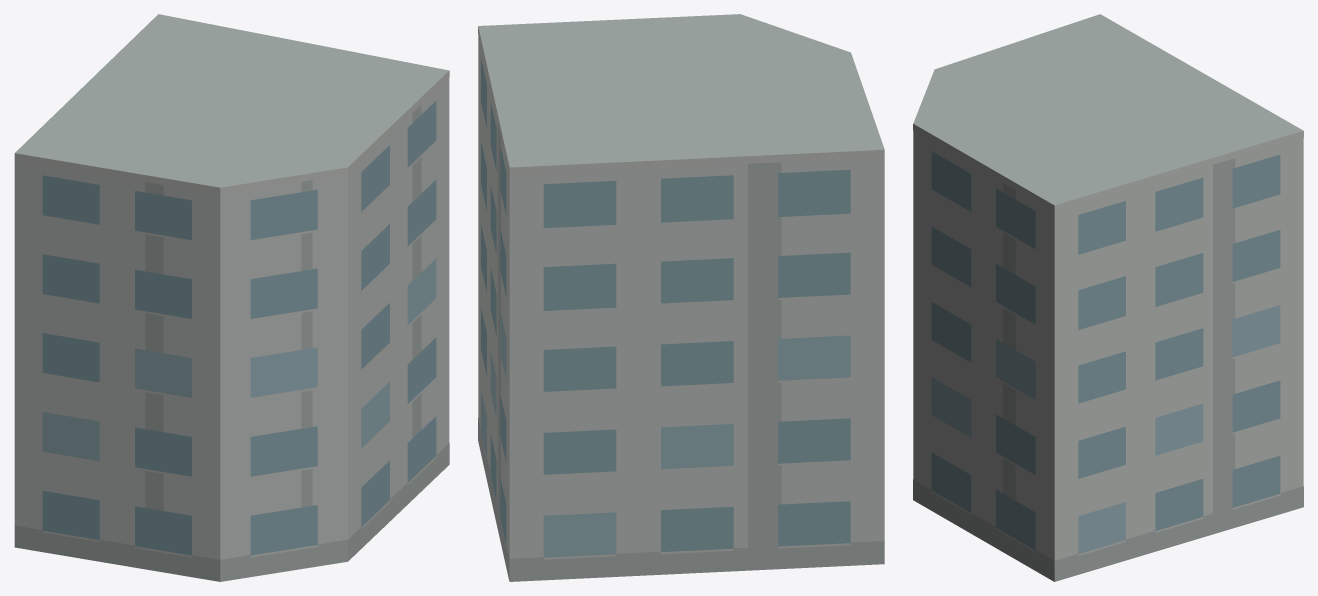
The model's file is residential-39c30da0-f899-4d83-a1b3-40e8c3f085e1.glb.
The picture shows the model from 3 angles, left to right: view 1: azimuth 30°, elevation 25°; view 2: azimuth 150°, elevation 25°; view 3: azimuth 270°, elevation 25°; orthographic projection. The views are drawn at different scales.
Parts seen in each view (by area): view 1: residential-39c30da0-f899-4d83-a1b3-40e8c3f085e1.tmp; view 2: residential-39c30da0-f899-4d83-a1b3-40e8c3f085e1.tmp; view 3: residential-39c30da0-f899-4d83-a1b3-40e8c3f085e1.tmp.
Boxes of the visible parts, left/top/right/bottom form: residential-39c30da0-f899-4d83-a1b3-40e8c3f085e1.tmp: left=14, top=14, right=449, bottom=581; residential-39c30da0-f899-4d83-a1b3-40e8c3f085e1.tmp: left=478, top=14, right=884, bottom=581; residential-39c30da0-f899-4d83-a1b3-40e8c3f085e1.tmp: left=913, top=14, right=1303, bottom=581.
Bounding box in the file's own units: 14.68 × 13.45 × 12.66.
